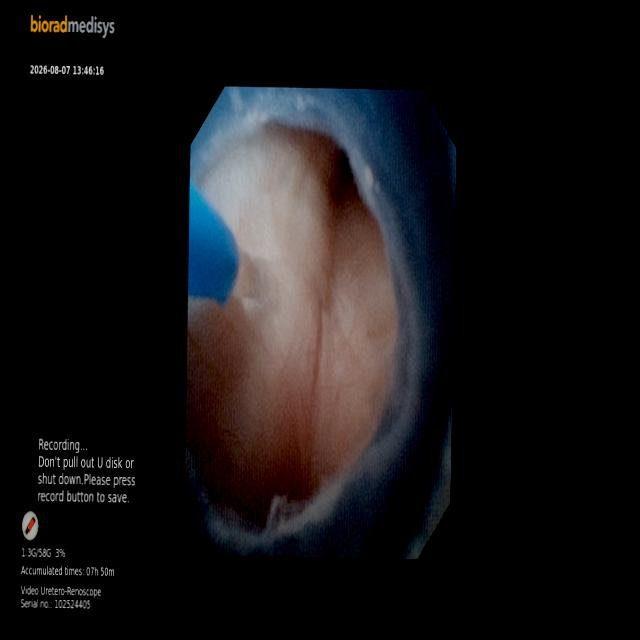laser-fibre: (231, 250, 261, 298)
